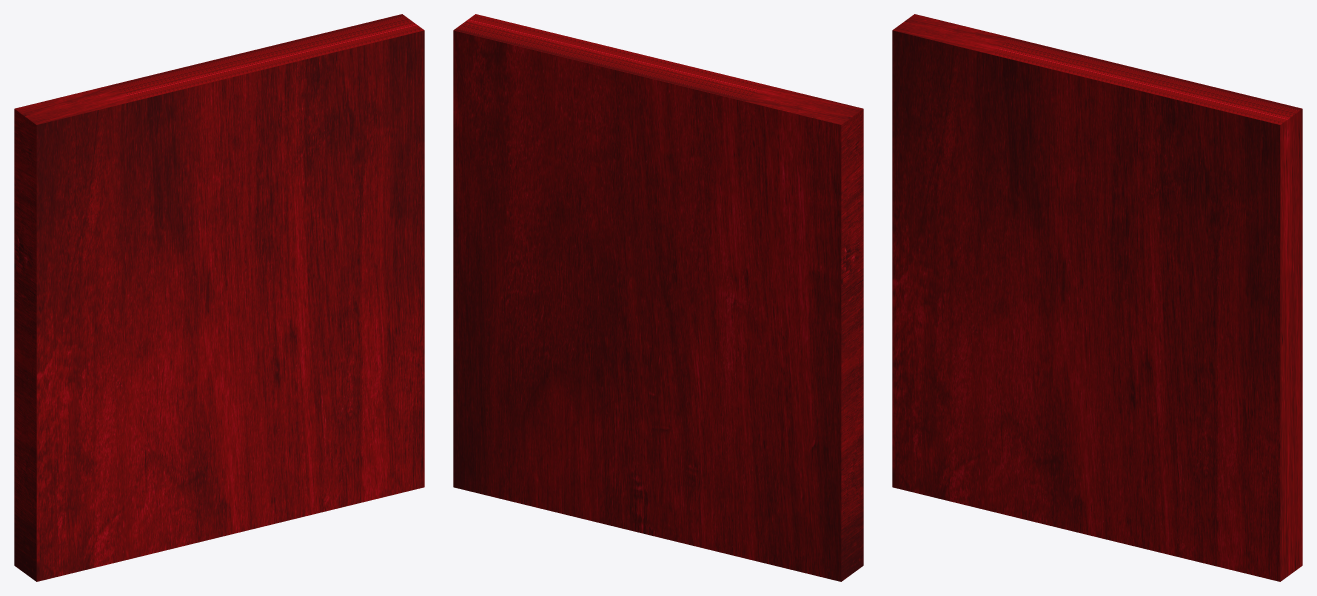
File: Door.obj
The picture shows the model from 3 angles, left to right: view 1: azimuth 30°, elevation 25°; view 2: azimuth 150°, elevation 25°; view 3: azimuth 330°, elevation 25°; orthographic projection.
Visible parts, largest first — view 1: Door_right_Cube.002; view 2: Door_right_Cube.002; view 3: Door_right_Cube.002.
Boxes of the visible parts, box(x1,y1,x2,y2) form: Door_right_Cube.002: box(14, 14, 424, 581); Door_right_Cube.002: box(453, 14, 863, 581); Door_right_Cube.002: box(892, 14, 1302, 581).
Size of the model in its own units: 8 by 9 by 0.8.
1 material, 1 textured.
